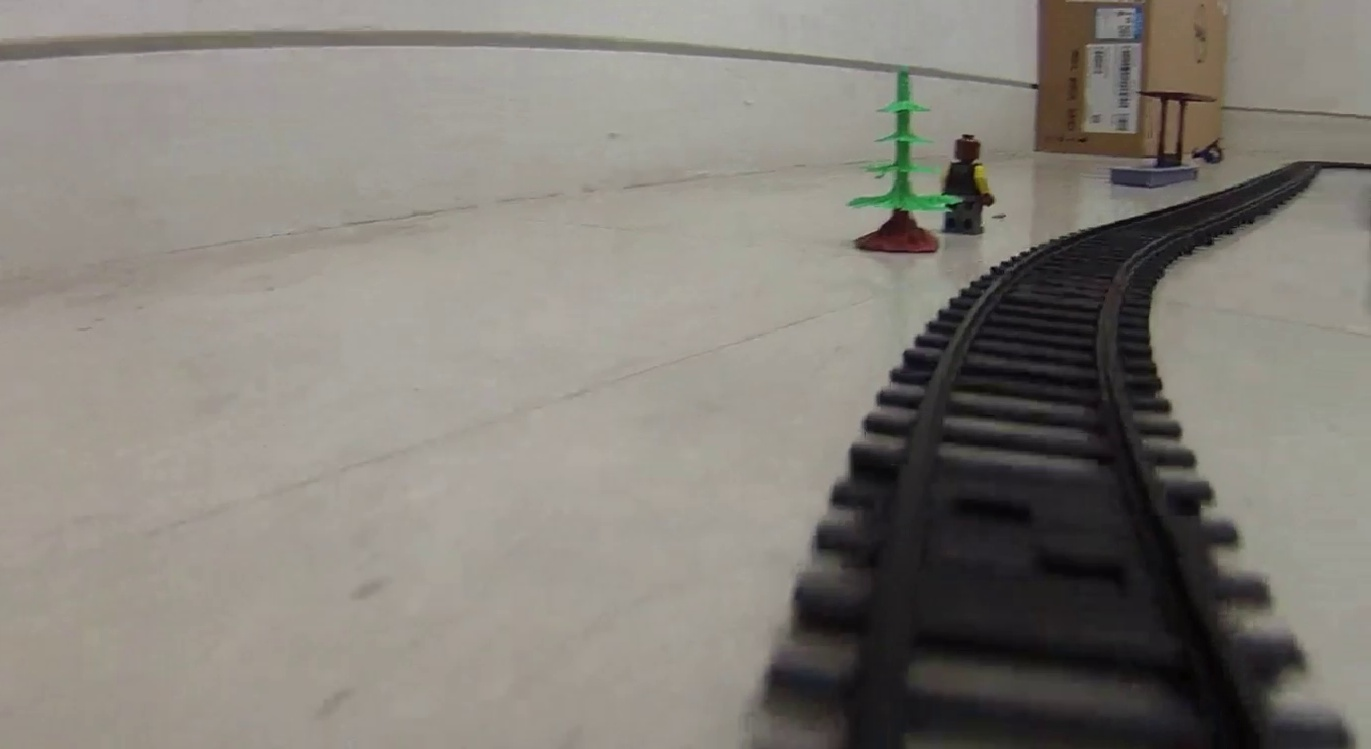people: (944, 134, 992, 234)
tree: (848, 64, 947, 252)
